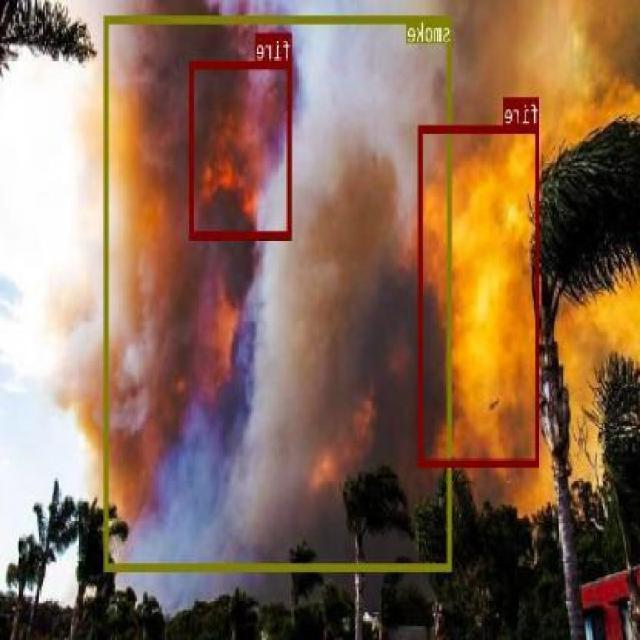Fire: (419, 123, 541, 466), (190, 61, 292, 238)
Smoke: (105, 14, 452, 570)
